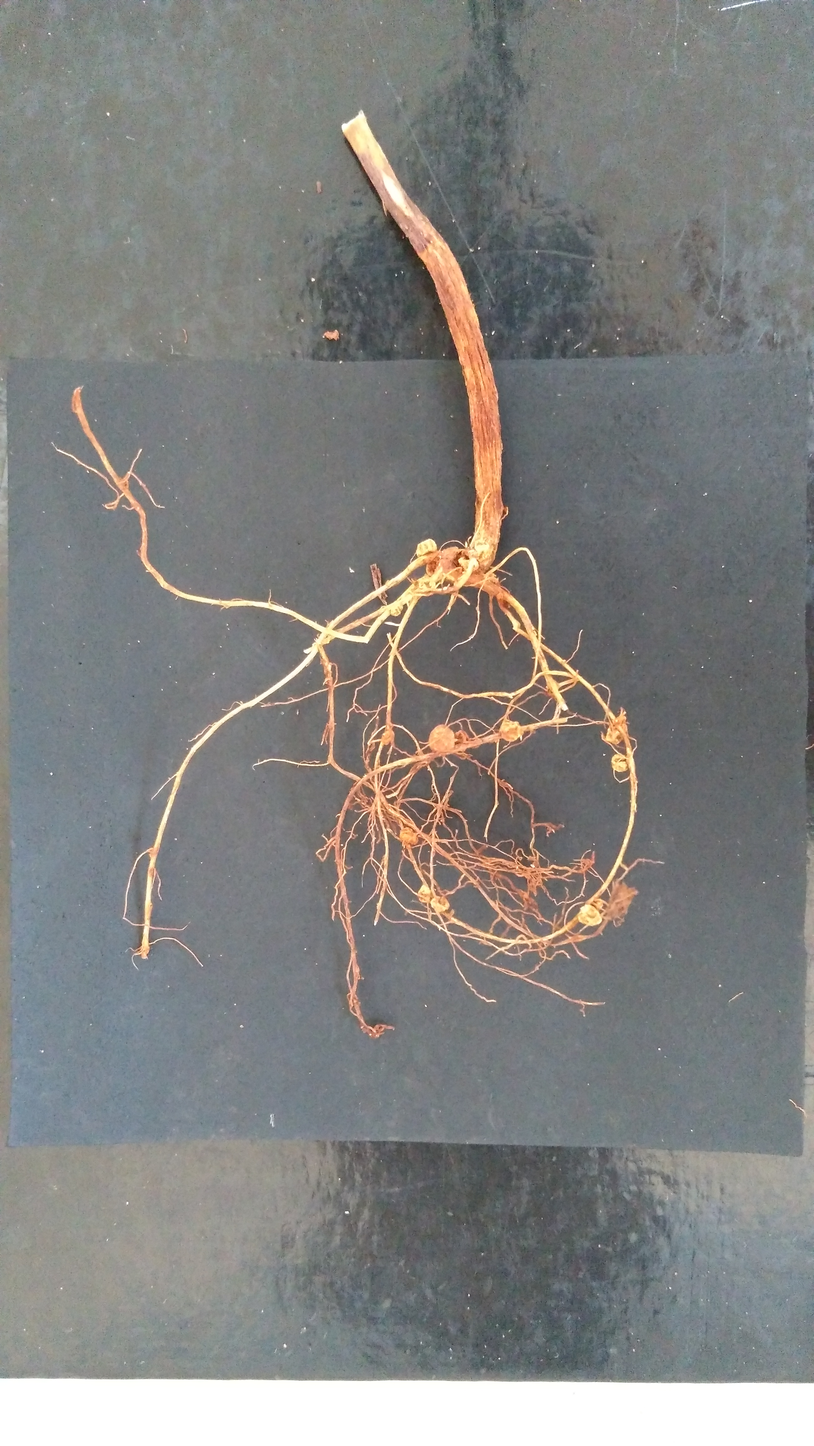nodule: (603, 883, 637, 922), (429, 724, 455, 752), (578, 904, 602, 926), (468, 539, 490, 562), (498, 721, 521, 741), (414, 578, 436, 597), (416, 539, 437, 557), (606, 725, 624, 744), (458, 556, 479, 571), (435, 558, 457, 572), (400, 827, 418, 844), (611, 754, 628, 772), (430, 896, 449, 912), (441, 546, 459, 560), (418, 885, 430, 903), (500, 586, 510, 607), (455, 730, 469, 745), (614, 716, 627, 732), (547, 679, 559, 696), (484, 572, 499, 585), (382, 730, 394, 744), (426, 563, 438, 576), (391, 603, 403, 616), (591, 898, 603, 909), (582, 859, 591, 868), (530, 864, 535, 868), (561, 659, 566, 662)
